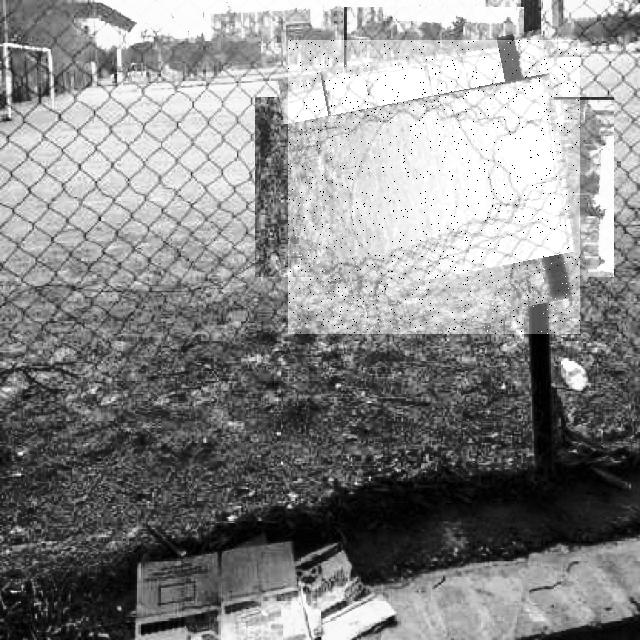anomaly-fence: (288, 40, 580, 334)
